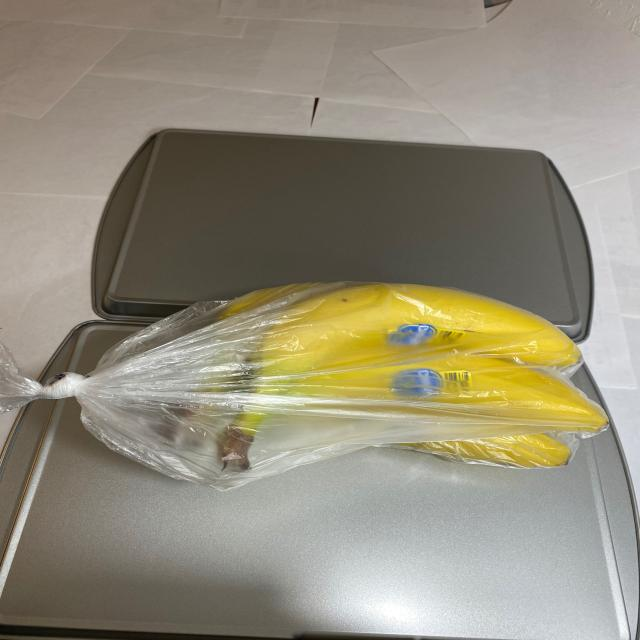banana: (142, 276, 612, 498)
